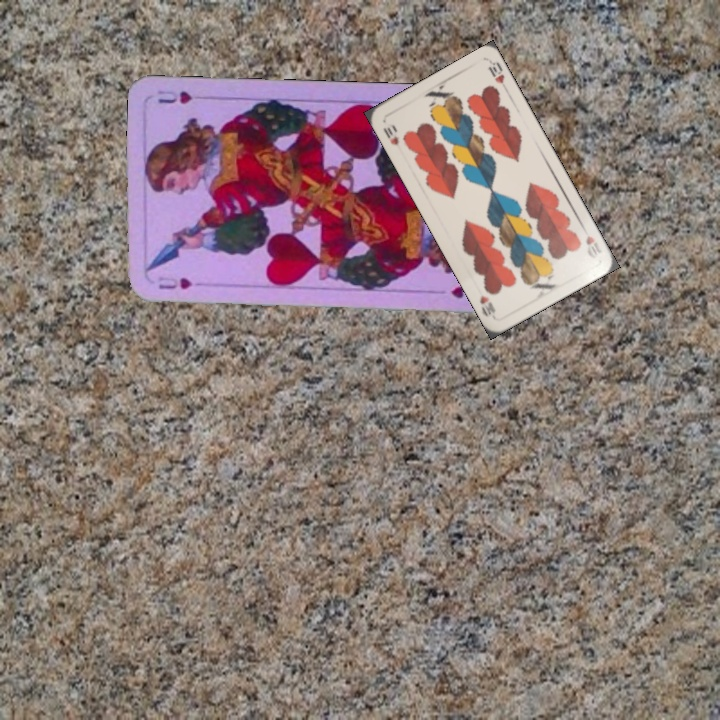H10: (582, 232, 605, 257), (379, 123, 401, 148)
HU: (154, 272, 195, 292)
